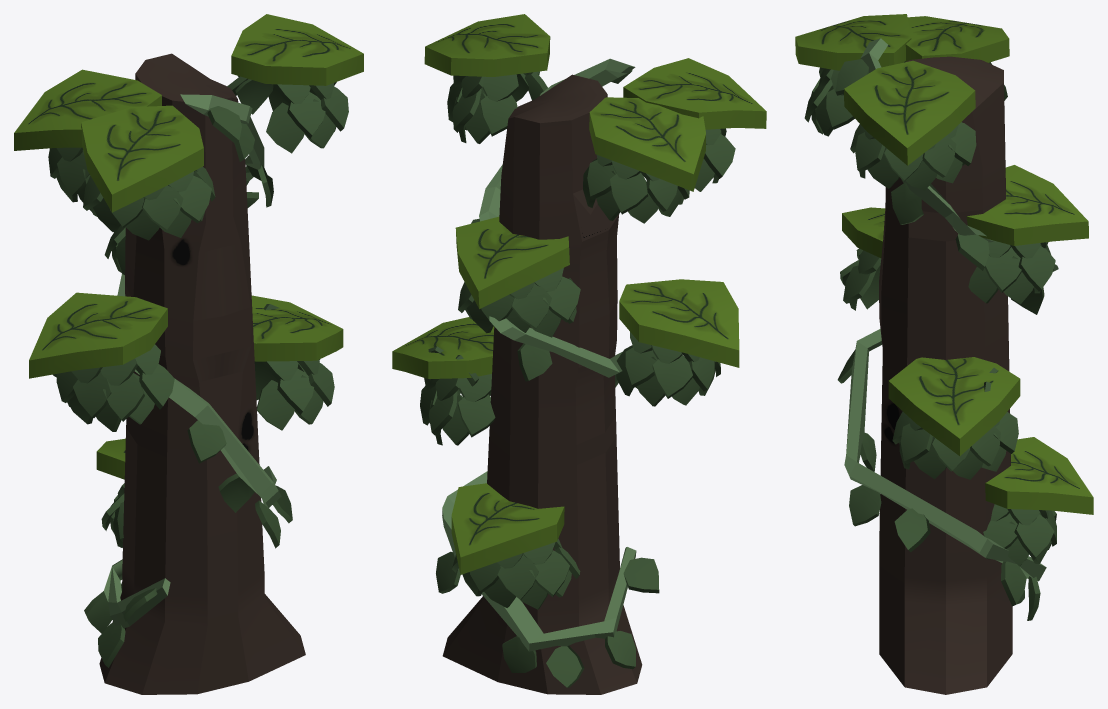
File: Tree_Dead_Platforms.fbx
3 views of the same model, side by side, from view 1: azimuth 30°, elevation 25°; view 2: azimuth 150°, elevation 25°; view 3: azimuth 270°, elevation 25° (orthographic). The views are drawn at different scales.
Visible parts, largest first — view 1: polySurface410; view 2: polySurface410; view 3: polySurface410.
Boxes of the visible parts, x1,y1,x2,y2 form: polySurface410: (14,14,363,694); polySurface410: (392,14,766,694); polySurface410: (795,14,1093,694).
Bounding box in the file's own units: 1.26 × 2.21 × 1.
